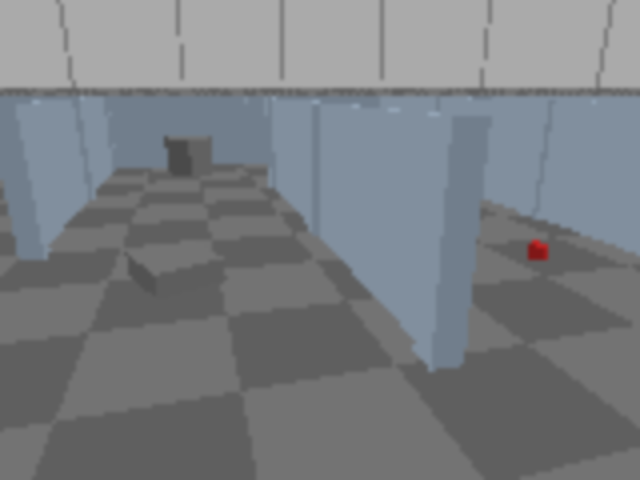puck: (526, 241, 550, 262)
